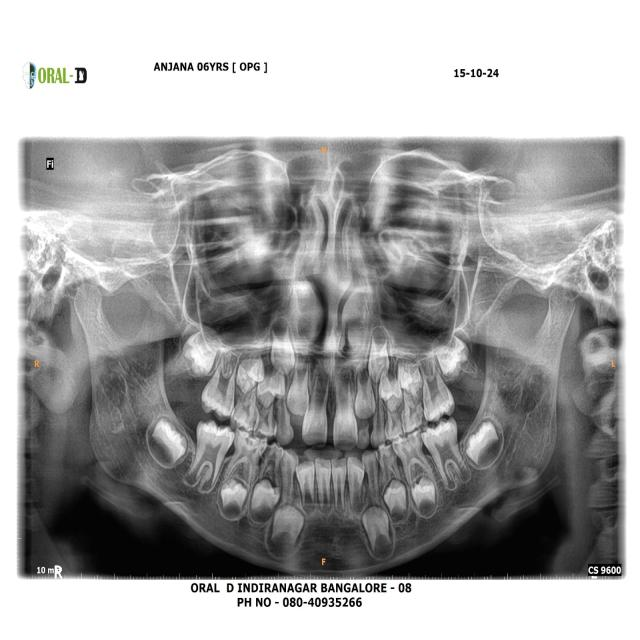Premolars: (376, 441, 401, 494)
